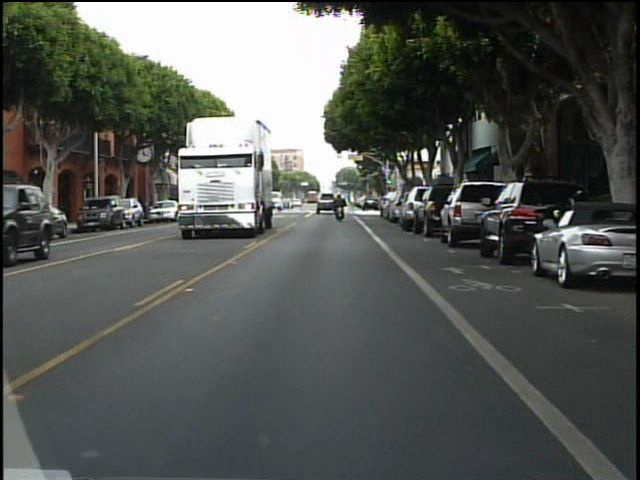person: (332, 192, 348, 223)
